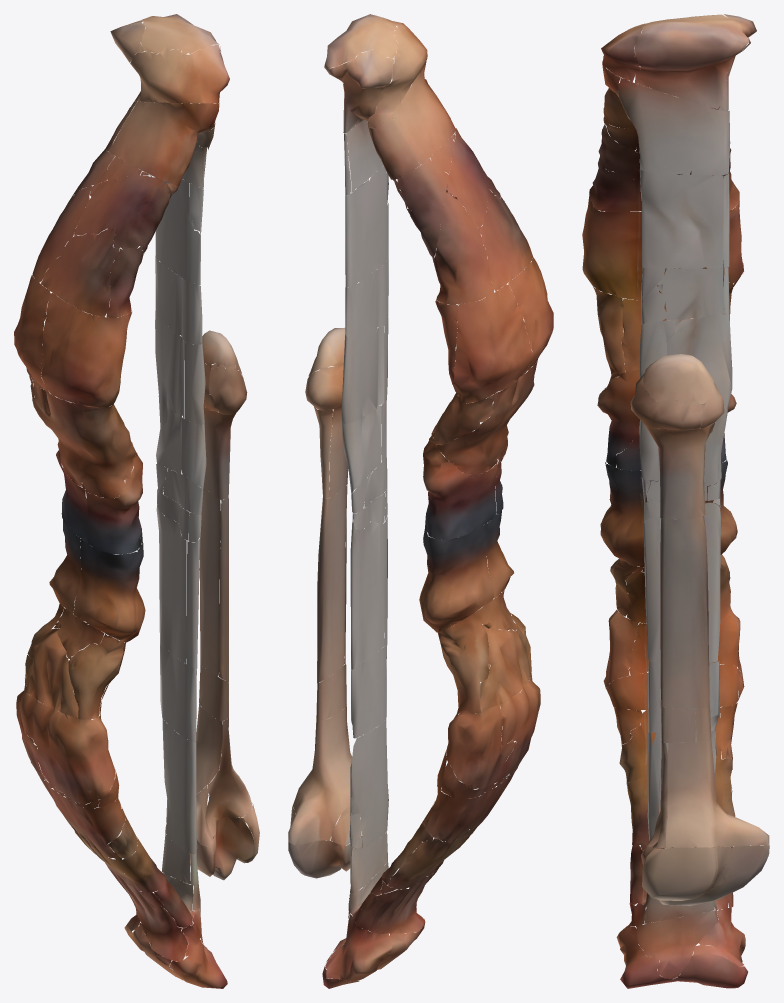
Rendered from bow1.glb.
The picture shows the model from 3 angles, left to right: view 1: azimuth 30°, elevation 25°; view 2: azimuth 150°, elevation 25°; view 3: azimuth 270°, elevation 25°; orthographic projection.
Visible parts, largest first — view 1: bow1; view 2: bow1; view 3: bow1.
Boxes of the visible parts, x1,y1,x2,y2 form: bow1: (14,14,259,988); bow1: (288,14,553,988); bow1: (582,14,769,988).
Size of the model in its own units: 0.2397 by 1 by 0.176.
1 material, 1 textured.
